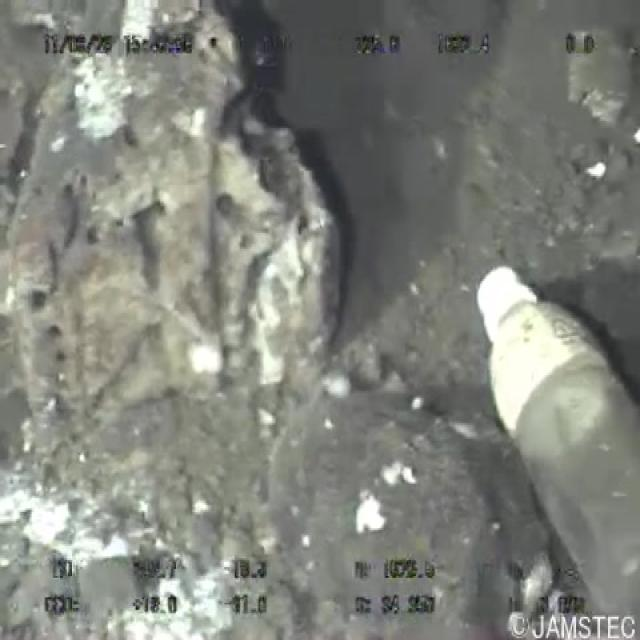plastic: (472, 251, 639, 608)
